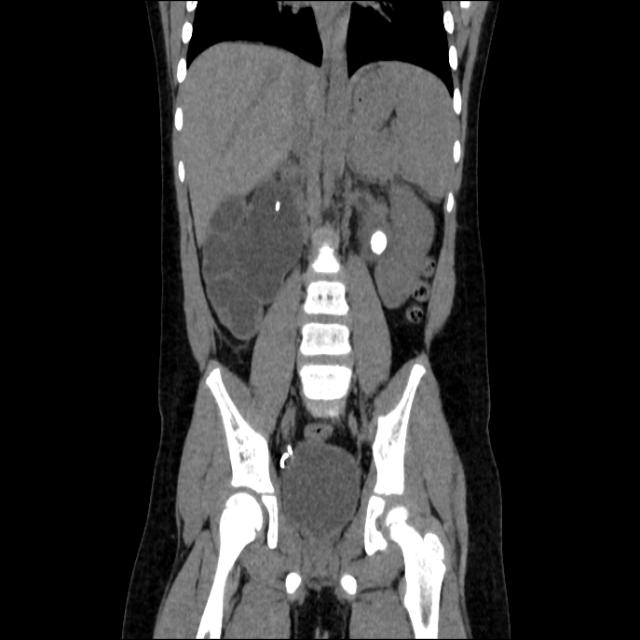kidney: (200, 178, 313, 342), (352, 176, 436, 311)
stone: (368, 227, 388, 258), (270, 194, 285, 216)
